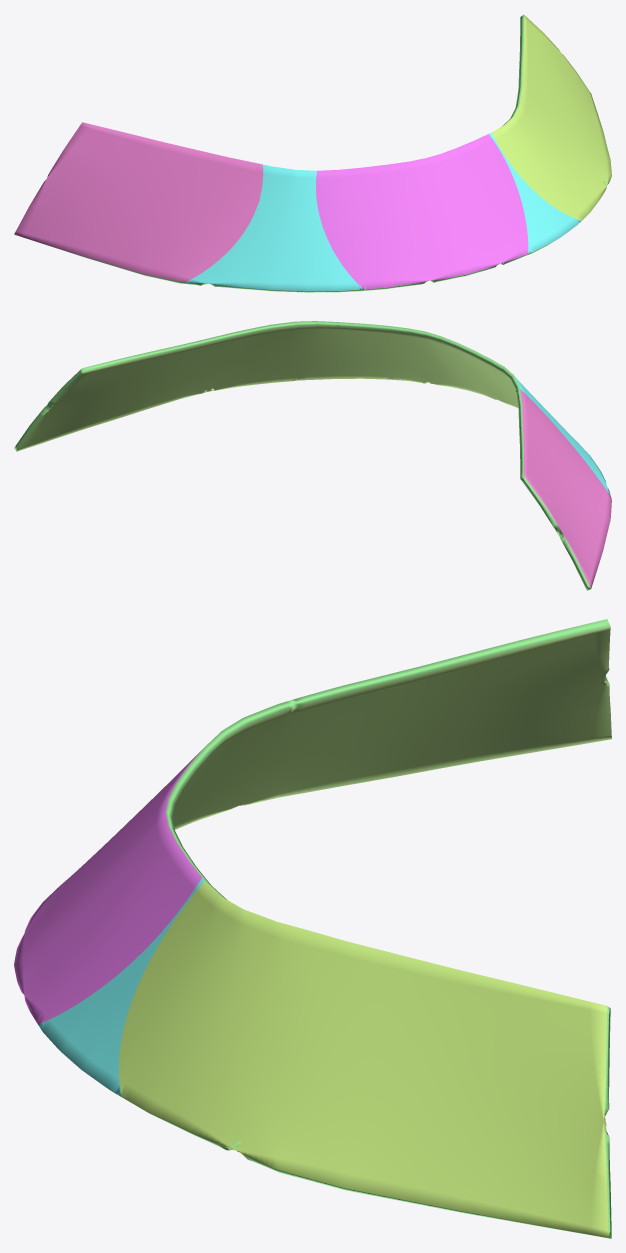
The model's file is Langas_low_MATID2.fbx.
The picture shows the model from 3 angles, top to bottom: view 1: azimuth 30°, elevation 25°; view 2: azimuth 150°, elevation 25°; view 3: azimuth 270°, elevation 25°; orthographic projection. The views are drawn at different scales.
Visible parts, largest first — view 1: Langas_low; view 2: Langas_low; view 3: Langas_low.
Boxes of the visible parts, bbox=[...] form: Langas_low: bbox=[14, 14, 611, 292]; Langas_low: bbox=[14, 321, 611, 590]; Langas_low: bbox=[14, 619, 611, 1238].
Size of the model in its own units: 80.99 by 13.22 by 40.48.
